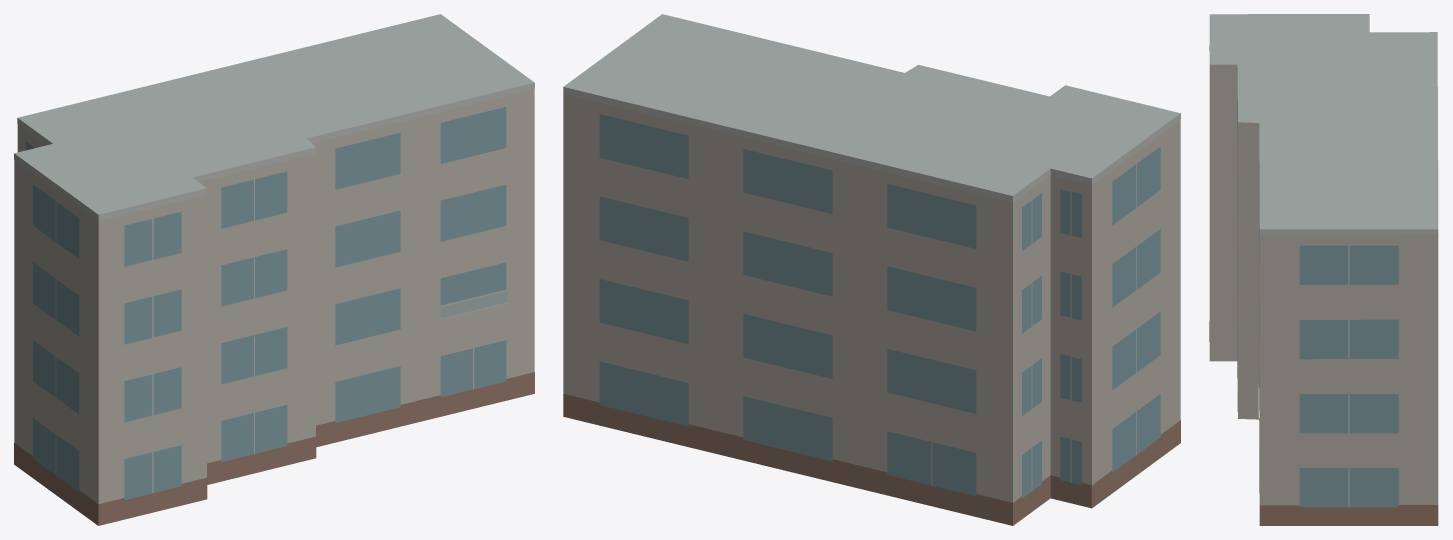
File: survey-upis-32728368.glb
The picture shows the model from 3 angles, left to right: view 1: azimuth 30°, elevation 25°; view 2: azimuth 150°, elevation 25°; view 3: azimuth 270°, elevation 25°; orthographic projection. The views are drawn at different scales.
Parts seen in each view (by area): view 1: survey-upis-32728368.tmp; view 2: survey-upis-32728368.tmp; view 3: survey-upis-32728368.tmp.
Boxes of the visible parts, left/top/right/bottom form: survey-upis-32728368.tmp: left=14, top=14, right=534, bottom=525; survey-upis-32728368.tmp: left=563, top=14, right=1180, bottom=525; survey-upis-32728368.tmp: left=1209, top=14, right=1438, bottom=525.
Bounding box in the file's own units: 19.01 × 12.2 × 8.55.
